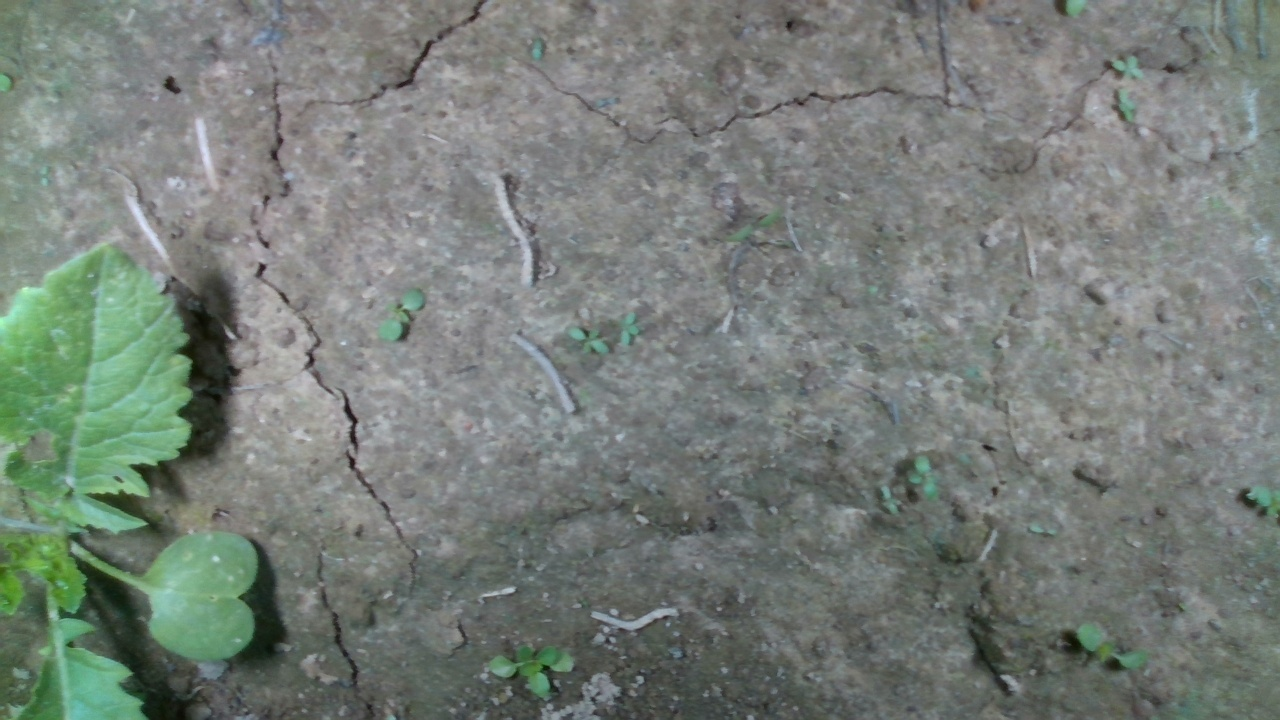weed: (1074, 619, 1151, 670), (378, 287, 425, 342), (903, 450, 939, 496), (1109, 51, 1148, 86), (566, 326, 610, 355), (1113, 85, 1137, 124), (618, 311, 640, 347), (881, 484, 902, 515)
